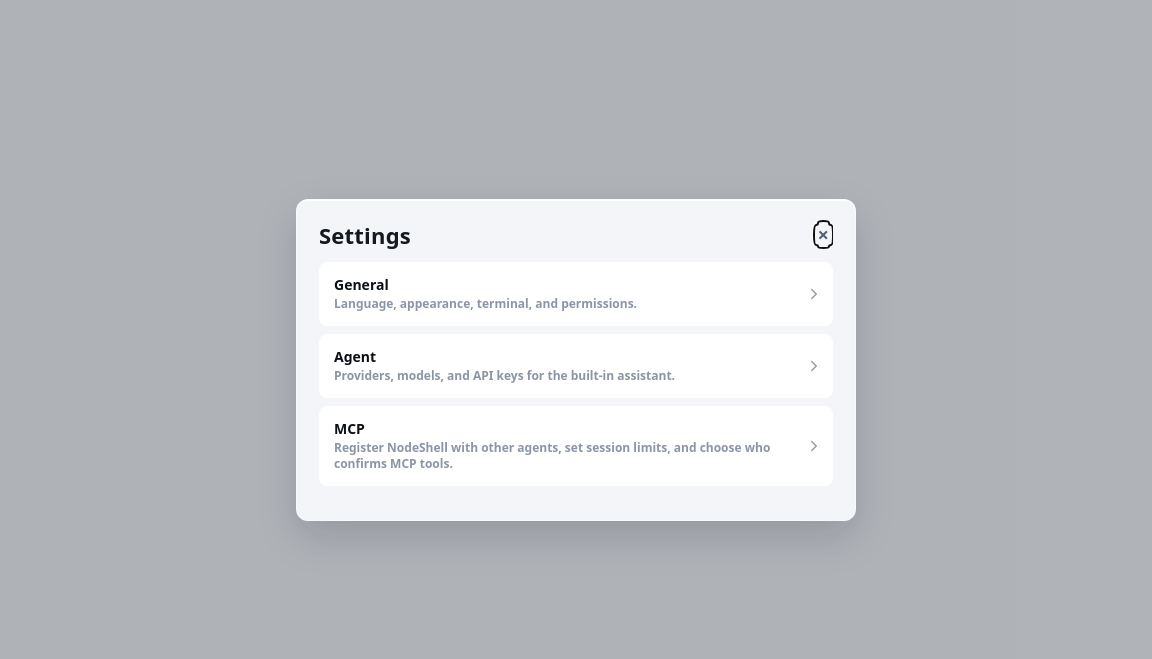
Test: SettingsModal navigation and motion › navigates immediately between categories without adding resizing class or inline height style
The width and height of the screenshot is (1152, 659).
Expected: the element with class "settings-shell" is shown, [319,220,833,502]
Click the button "General".
click(576, 294)  # box [319,262,833,326]
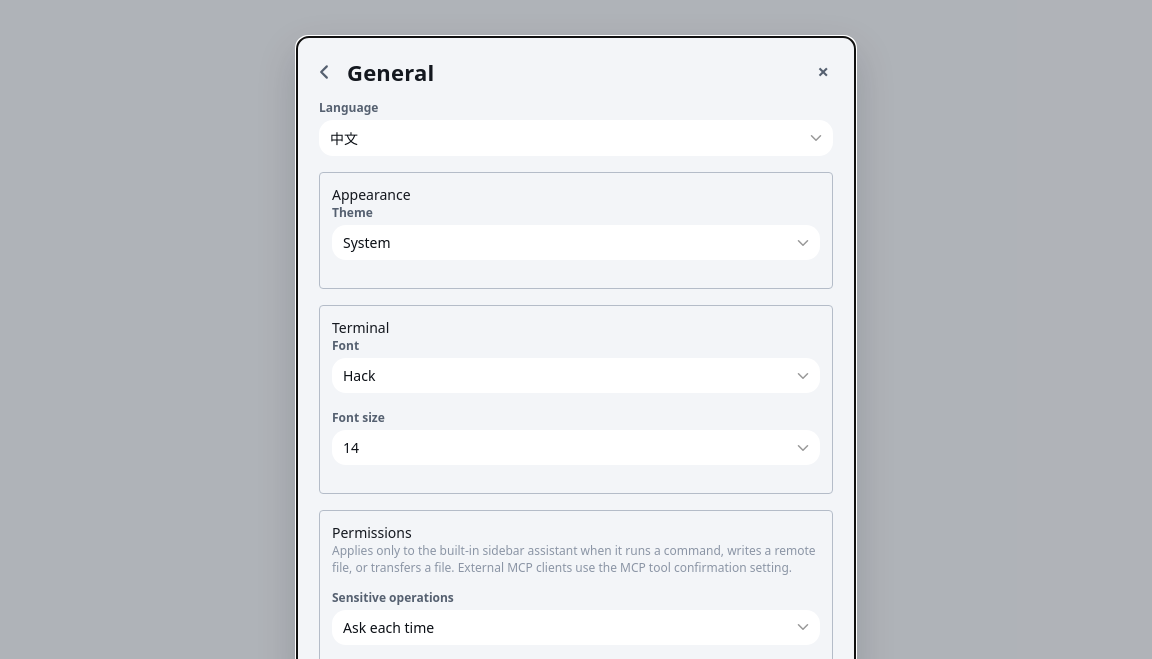
Now the dropdown named "Font" is shown, box [332,358,820,393]
Click the button named "Back".
click(329, 72)  # box [319,60,339,84]
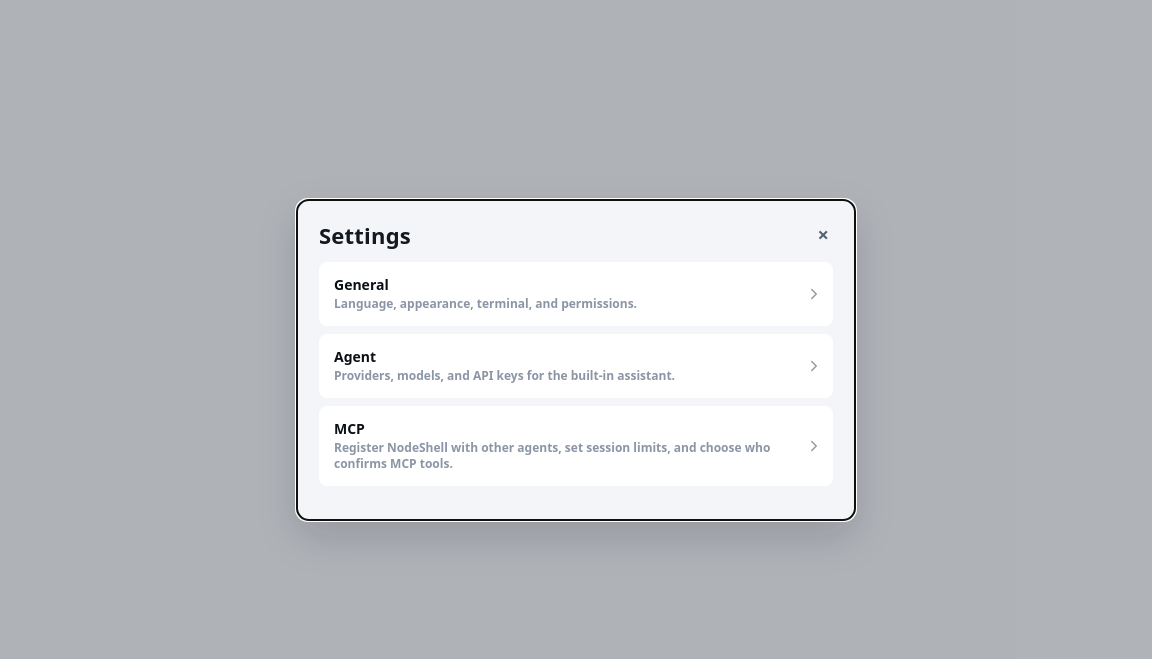
Now the button "General" is shown, box [319,262,833,326]
Click the button "MCP".
click(576, 446)  # box [319,406,833,486]
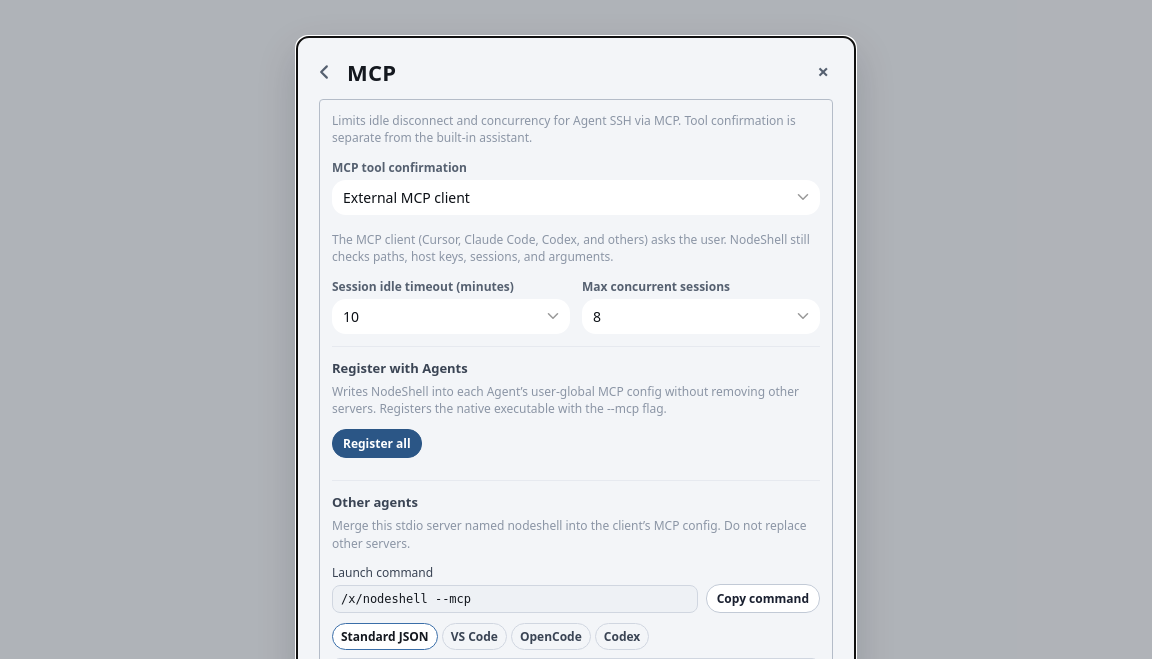
Now the heading "MCP" is shown, box [347,57,396,87]
Click the button named "Back".
click(329, 72)  # box [319,60,339,84]
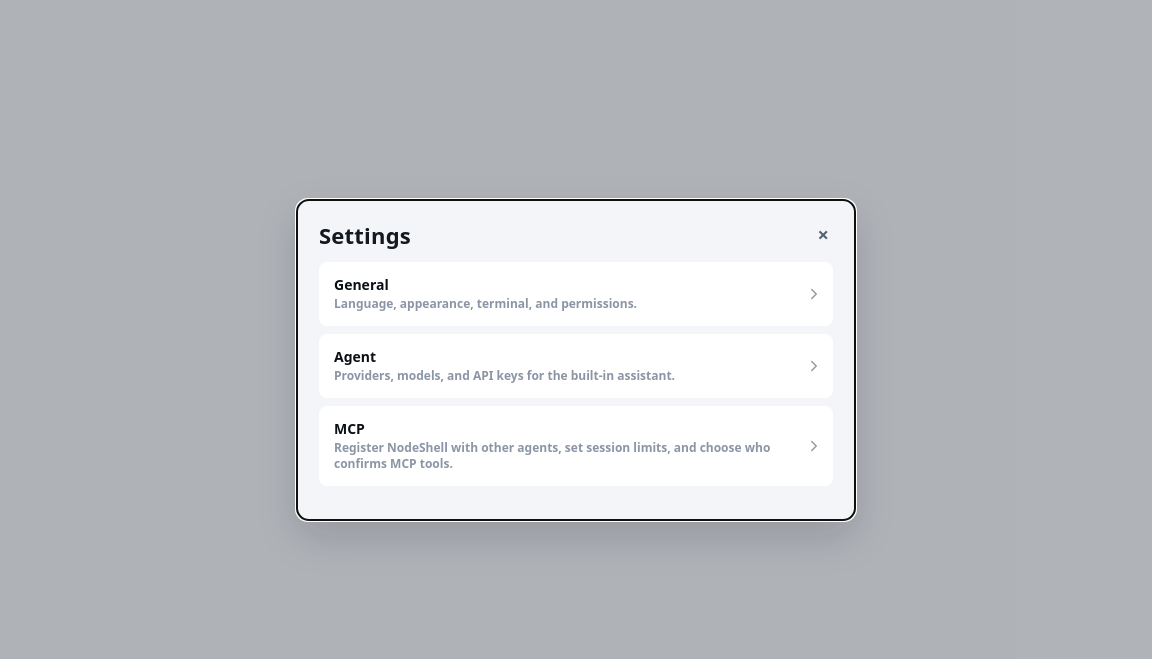
Click the button "Agent".
click(576, 366)  # box [319,334,833,398]
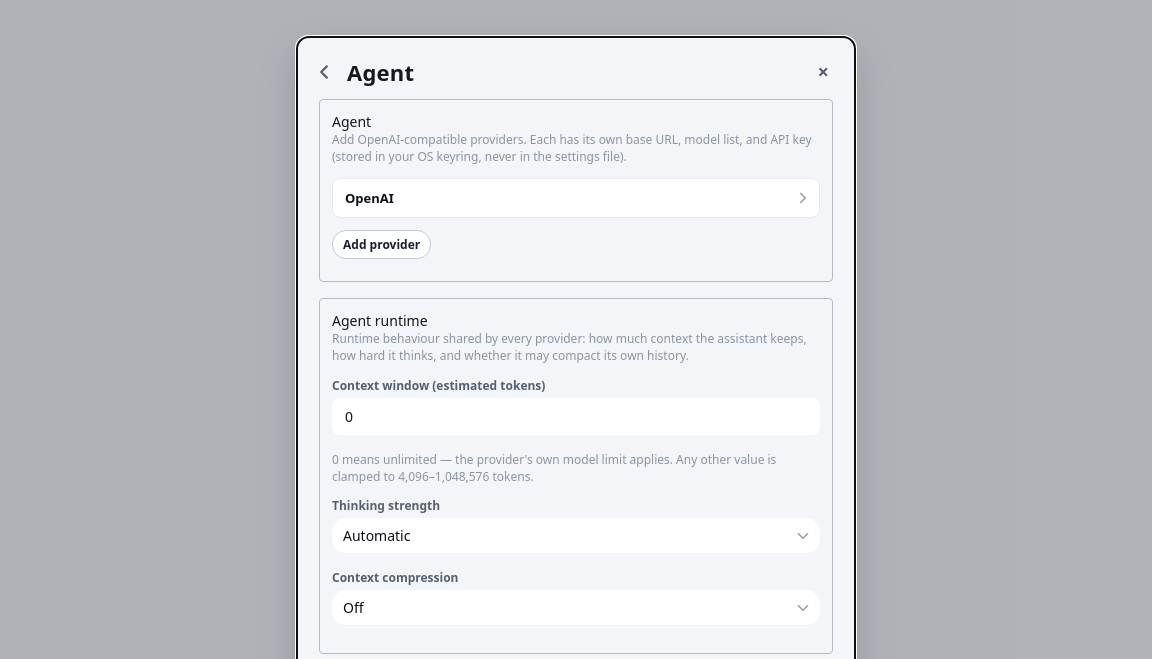
Now the heading "Agent" is shown, box [347,57,414,87]
